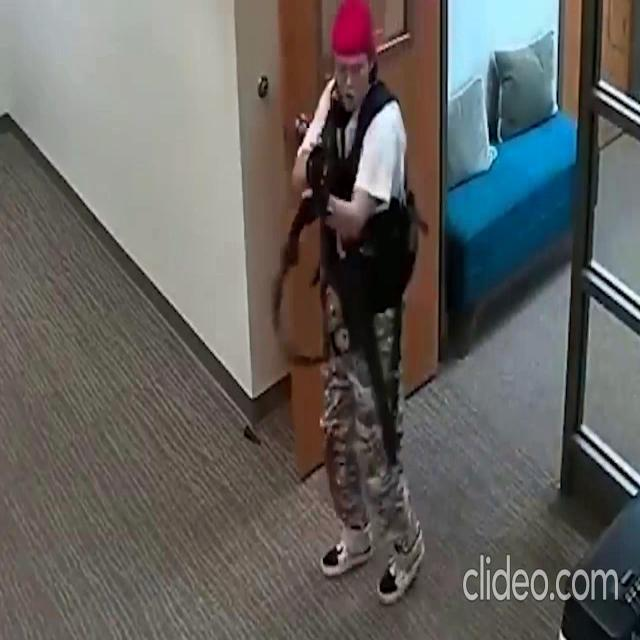gun: (291, 0, 427, 604), (336, 217, 412, 465), (306, 136, 334, 221)
